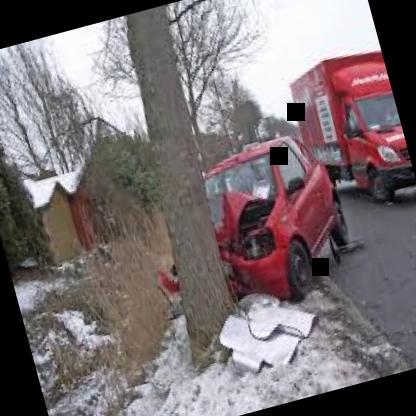accident: (126, 73, 378, 354)
